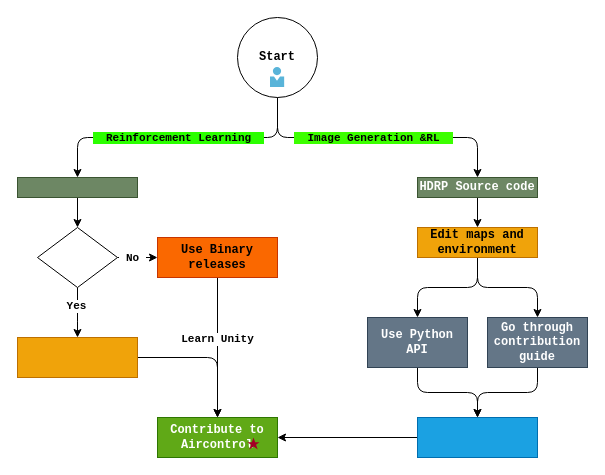
The diagram is 605 pixels wide and 475 high, and some of its shapes have lost their labels. Here are the shapes that lost their labels. From the top down, the box of each, then its label:
(16, 176, 138, 198): URP Releases
(36, 226, 118, 288): Know Unity?
(16, 336, 138, 378): Use Source code and Unity Editor
(416, 416, 538, 458): Edit AirControl Code
